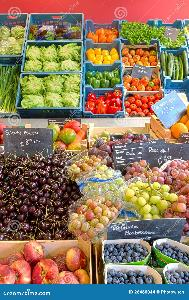bell_pepper: (85, 87, 122, 112), (88, 64, 122, 86), (87, 44, 123, 64), (87, 20, 119, 42)
cucumber: (160, 47, 188, 82)
grape: (72, 160, 189, 226)
mango: (20, 116, 88, 156)
peach: (0, 240, 88, 284)
plum: (98, 134, 150, 156)
tomato: (125, 92, 165, 122), (122, 46, 158, 70), (123, 72, 165, 92)
